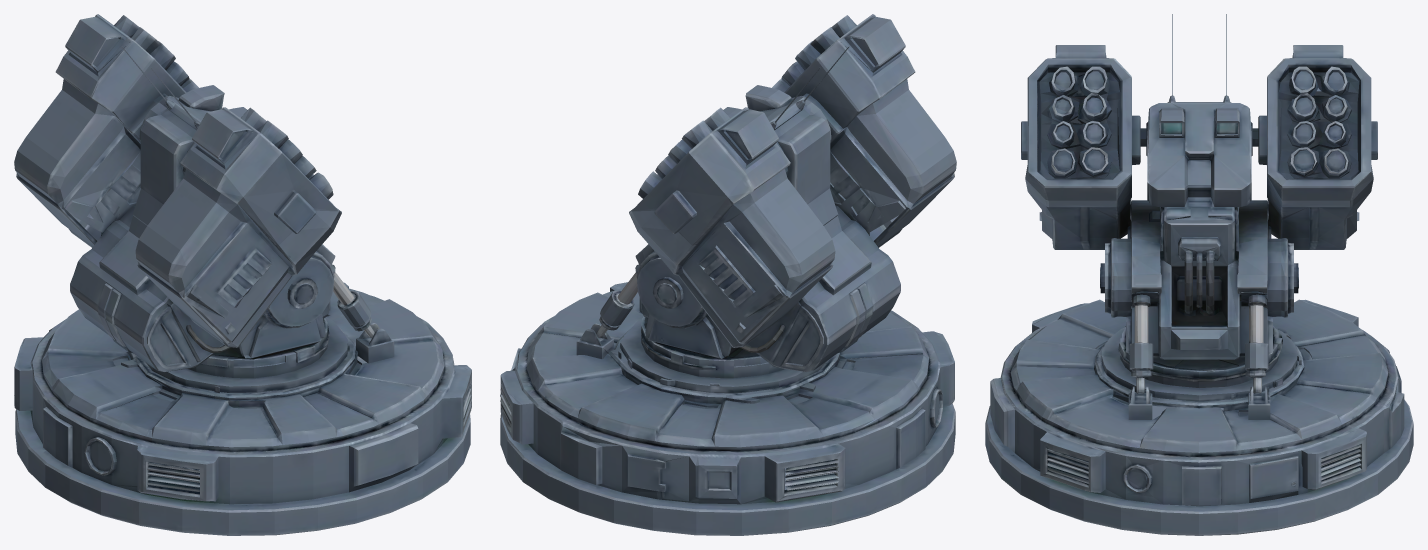
File: defense_turret_LOD0.glb
3 renders of one model, left to right at view 1: azimuth 30°, elevation 25°; view 2: azimuth 150°, elevation 25°; view 3: azimuth 270°, elevation 25°, orthographic. The views are drawn at different scales.
Visible parts, largest first — view 1: defense_turret_LOD0; view 2: defense_turret_LOD0; view 3: defense_turret_LOD0.
Part boxes in pixels (x1,y1,x2,y2): defense_turret_LOD0: [14, 14, 471, 535]; defense_turret_LOD0: [500, 14, 956, 535]; defense_turret_LOD0: [985, 14, 1413, 535].
Bounding box in the file's own units: 0.9881 × 0.9764 × 0.9881.
Materials: 1 (1 with a texture image).
